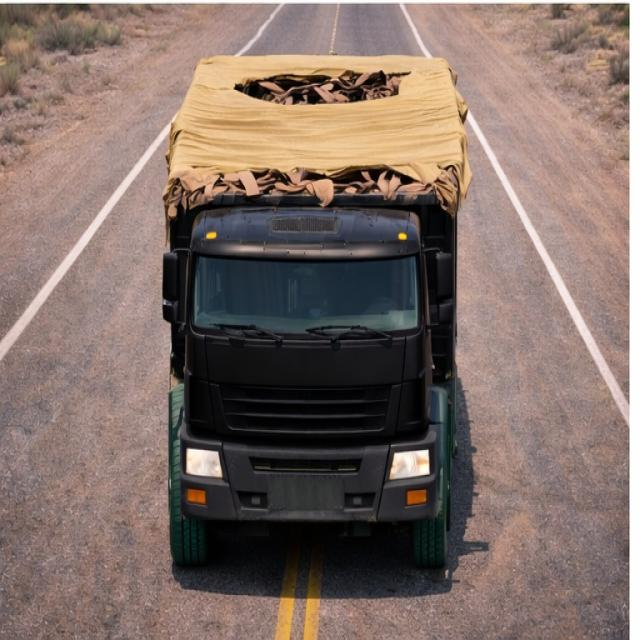Box: (172, 54, 460, 199)
Truck: (144, 46, 477, 572)
